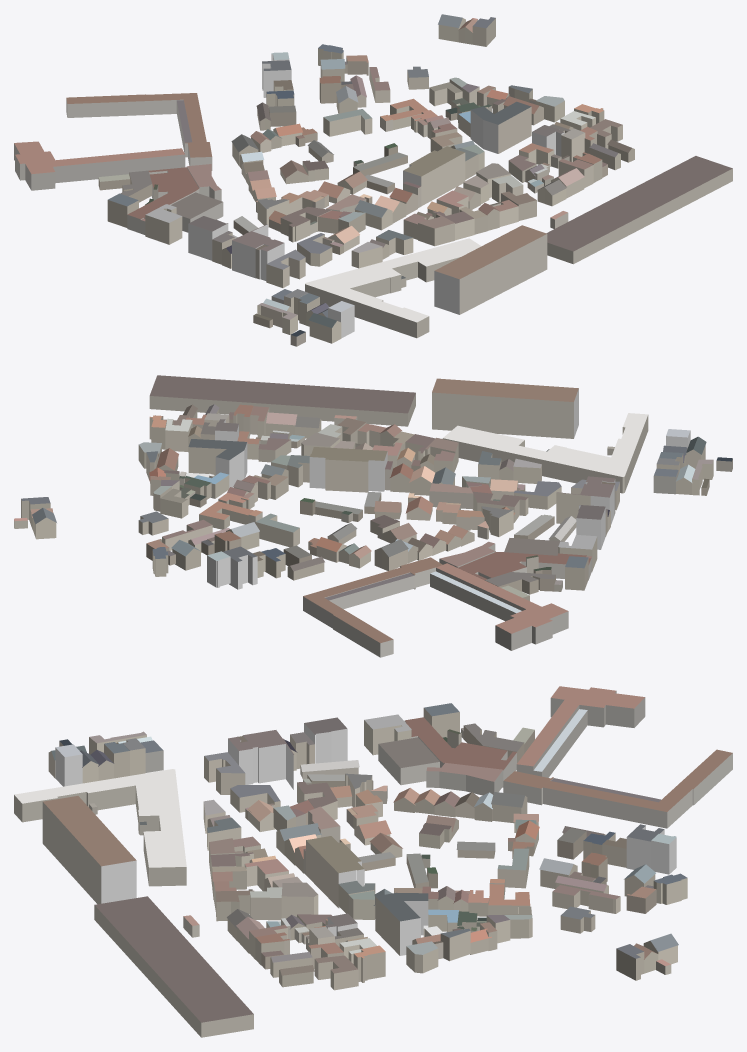
The picture shows the model from 3 angles, top to bottom: view 1: azimuth 30°, elevation 25°; view 2: azimuth 150°, elevation 25°; view 3: azimuth 270°, elevation 25°; orthographic projection. The views are drawn at different scales.
Visible parts, largest first — view 1: tuile; view 2: tuile; view 3: tuile.
Boxes of the visible parts, box(x1,y1,x2,y2) form: tuile: box(14, 14, 732, 346); tuile: box(14, 375, 732, 657); tuile: box(14, 686, 732, 1037).
Size of the model in its own units: 307 by 24.79 by 295.
